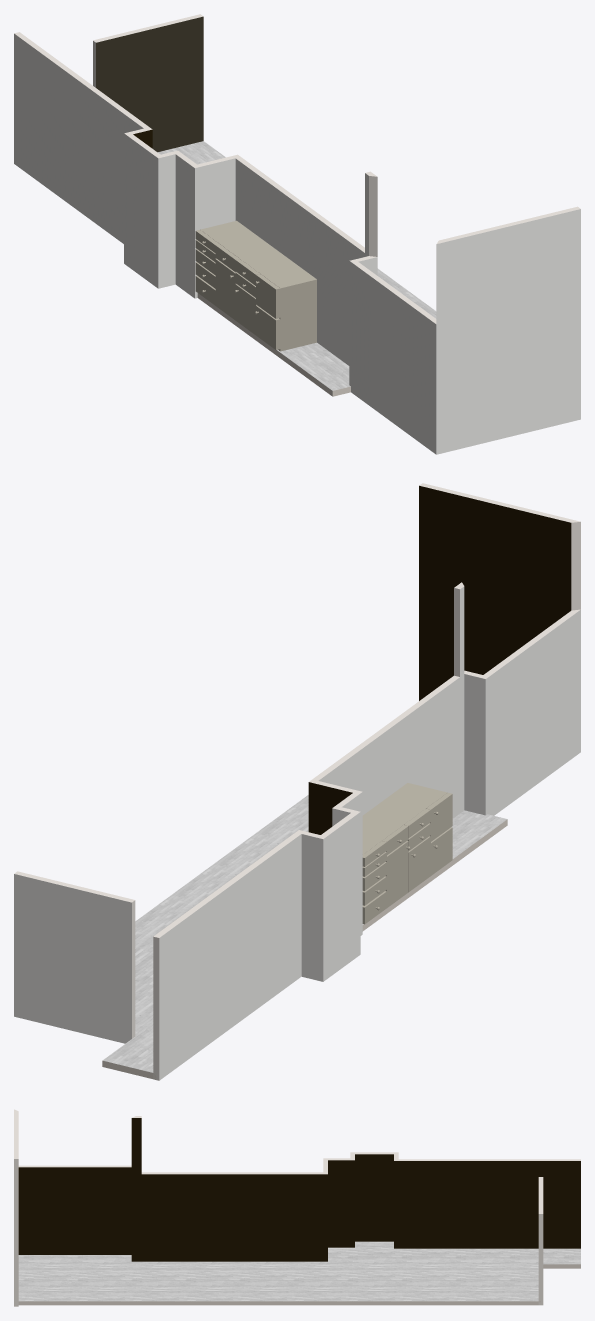
File: TopOfTheater.glb
3 views of the same model, one above another, from view 1: azimuth 30°, elevation 25°; view 2: azimuth 150°, elevation 25°; view 3: azimuth 270°, elevation 25° (orthographic). The views are drawn at different scales.
Visible parts, largest first — view 1: wall_3, wall_5, wall_8, storage_cabinet_mid40, wall_29, wall_2, wall_7, wall_4, wall_6, wall_10, floor_Other_2, floor_Other_1 (+4 smaller); view 2: wall_17, wall_5, wall_9, wall_8, wall_2, storage_cabinet_mid40, floor_Other_1, wall_7, wall_0, wall_1, wall_22, wall_16 (+6 smaller); view 3: floor_Other_1, wall_15, wall_21, wall_27, wall_25, floor_Other_3, wall_23, wall_18, wall_30, wall_16, wall_22, wall_28 (+1 smaller).
Boxes of the visible parts, box(x1,y1,x2,y2) form: wall_3: box(436, 209, 580, 454); wall_5: box(14, 33, 143, 243); wall_8: box(349, 261, 436, 454); storage_cabinet_mid40: box(195, 220, 316, 351); wall_29: box(96, 16, 203, 152); wall_2: box(235, 159, 368, 365); wall_7: box(124, 133, 158, 288); wall_4: box(195, 158, 235, 298); wall_6: box(175, 154, 194, 298); wall_10: box(158, 154, 175, 288); floor_Other_2: box(277, 342, 350, 390); floor_Other_1: box(158, 141, 436, 318); wall_17: box(419, 485, 571, 700); wall_5: box(159, 834, 301, 1080); wall_9: box(14, 874, 131, 1043); wall_8: box(485, 610, 580, 815); wall_2: box(318, 586, 464, 818); storage_cabinet_mid40: box(362, 783, 452, 924); floor_Other_1: box(103, 795, 308, 1072); wall_7: box(323, 812, 360, 981); wall_0: box(301, 834, 323, 981); wall_1: box(464, 674, 485, 815); wall_22: box(153, 830, 301, 1080); wall_16: box(309, 582, 463, 781); floor_Other_1: box(18, 1241, 580, 1301); wall_15: box(131, 1118, 327, 1261); wall_21: box(394, 1161, 580, 1248); wall_27: box(18, 1167, 131, 1254); wall_25: box(355, 1154, 393, 1241); floor_Other_3: box(18, 1264, 580, 1305); wall_23: box(328, 1160, 354, 1247); wall_18: box(14, 1109, 18, 1306); wall_30: box(538, 1177, 543, 1305); wall_16: box(132, 1116, 327, 1174); wall_22: box(395, 1159, 580, 1160); wall_28: box(18, 1165, 131, 1167).
Bounding box in the file's own units: 3.3 × 3.63 × 12.6.
27 materials, 2 textured.
